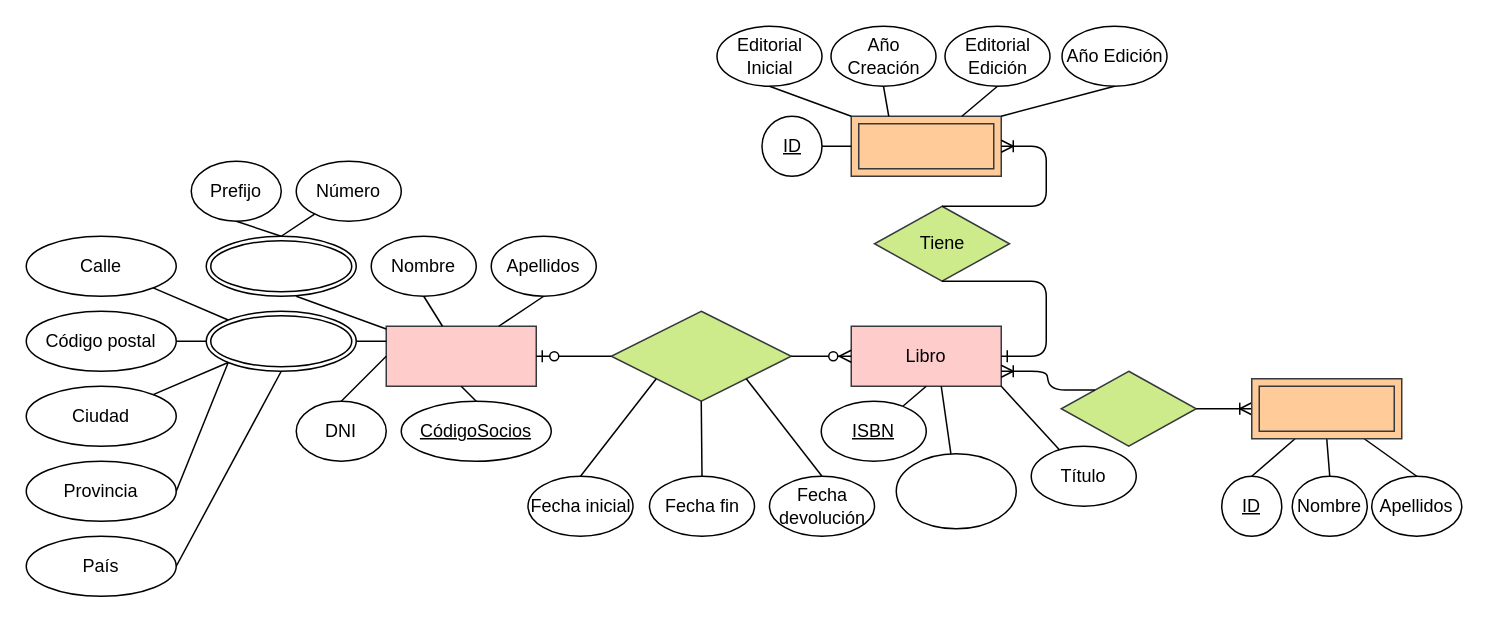
Some shapes in this 1488 by 623 pixel diagram are drawn without their labels. Each missing label, with the centre of its shape:
"Autor" belongs at point (1326, 408).
"Dirección" belongs at point (280, 340).
"Edición" belongs at point (925, 145).
"Escribir" belongs at point (1128, 408).
"Estado Deteriorado" belongs at point (955, 490).
"Prestar" belongs at point (700, 355).
"Socia/o" belongs at point (460, 355).
"Teléfono" belongs at point (280, 265).
